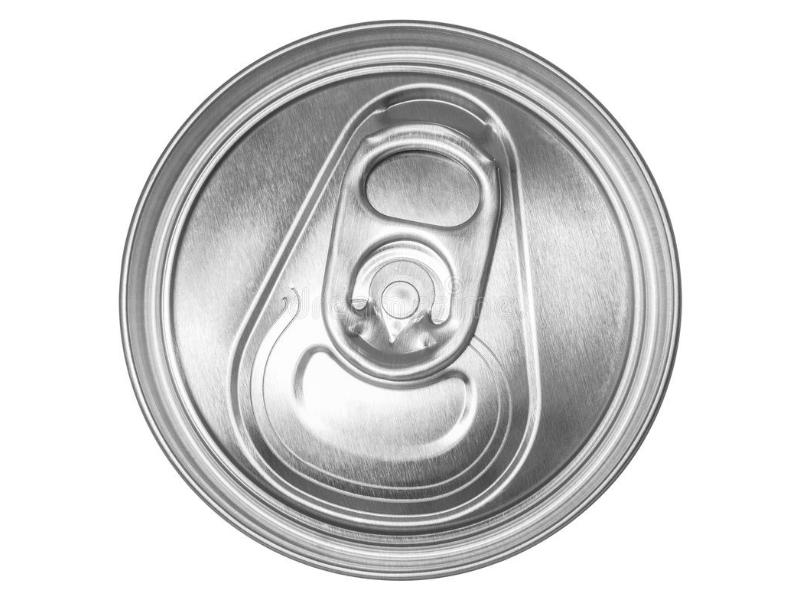can: (111, 12, 690, 589)
